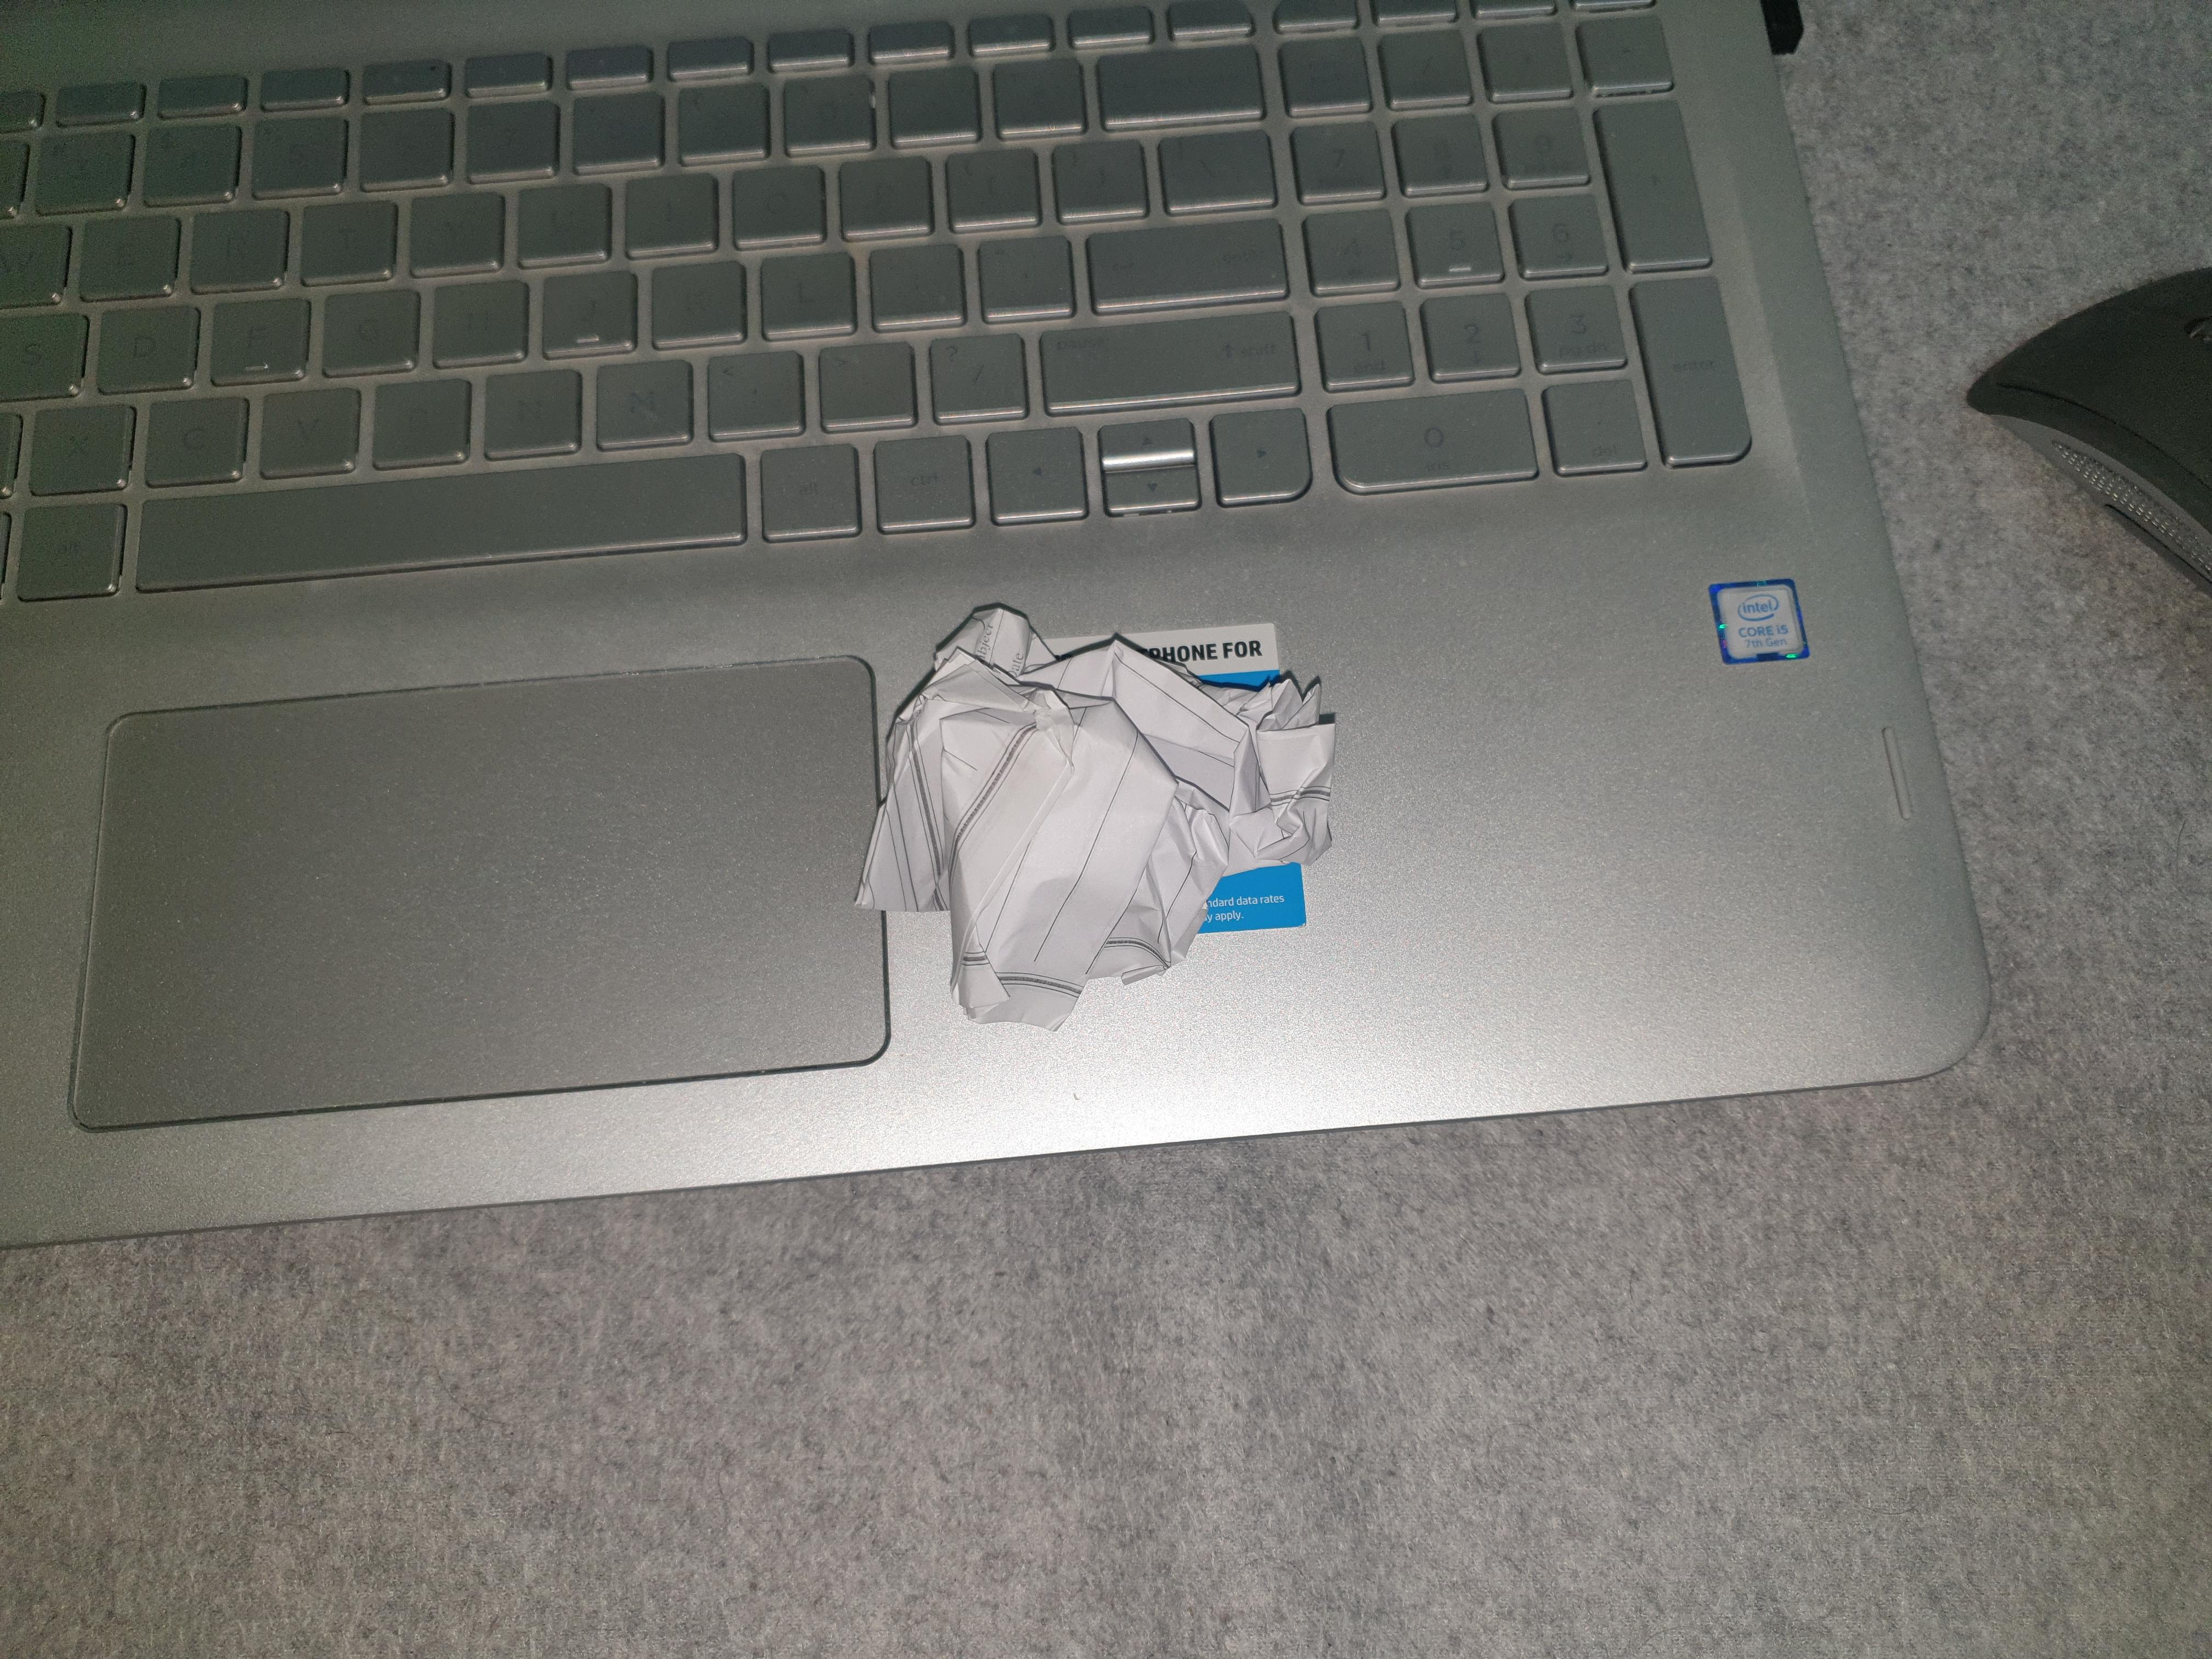Paper: (826, 585, 1370, 1055)
